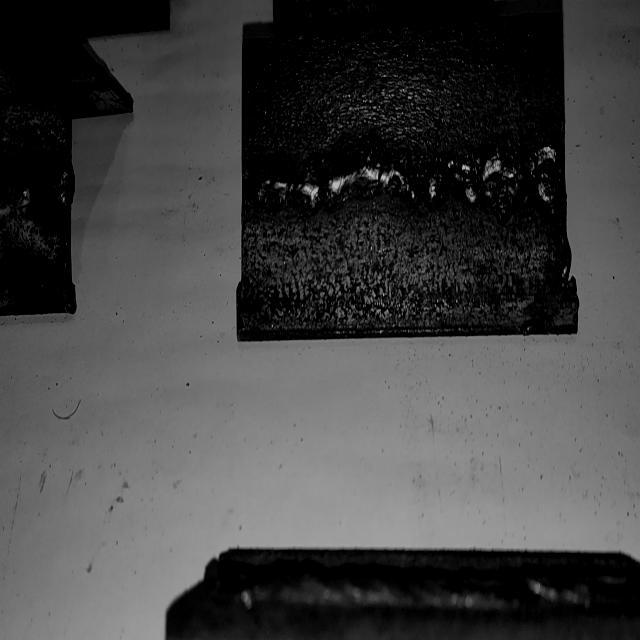Defect: (465, 125, 561, 226)
Welding Line: (244, 144, 566, 208)
Workpiece: (237, 31, 568, 332)
